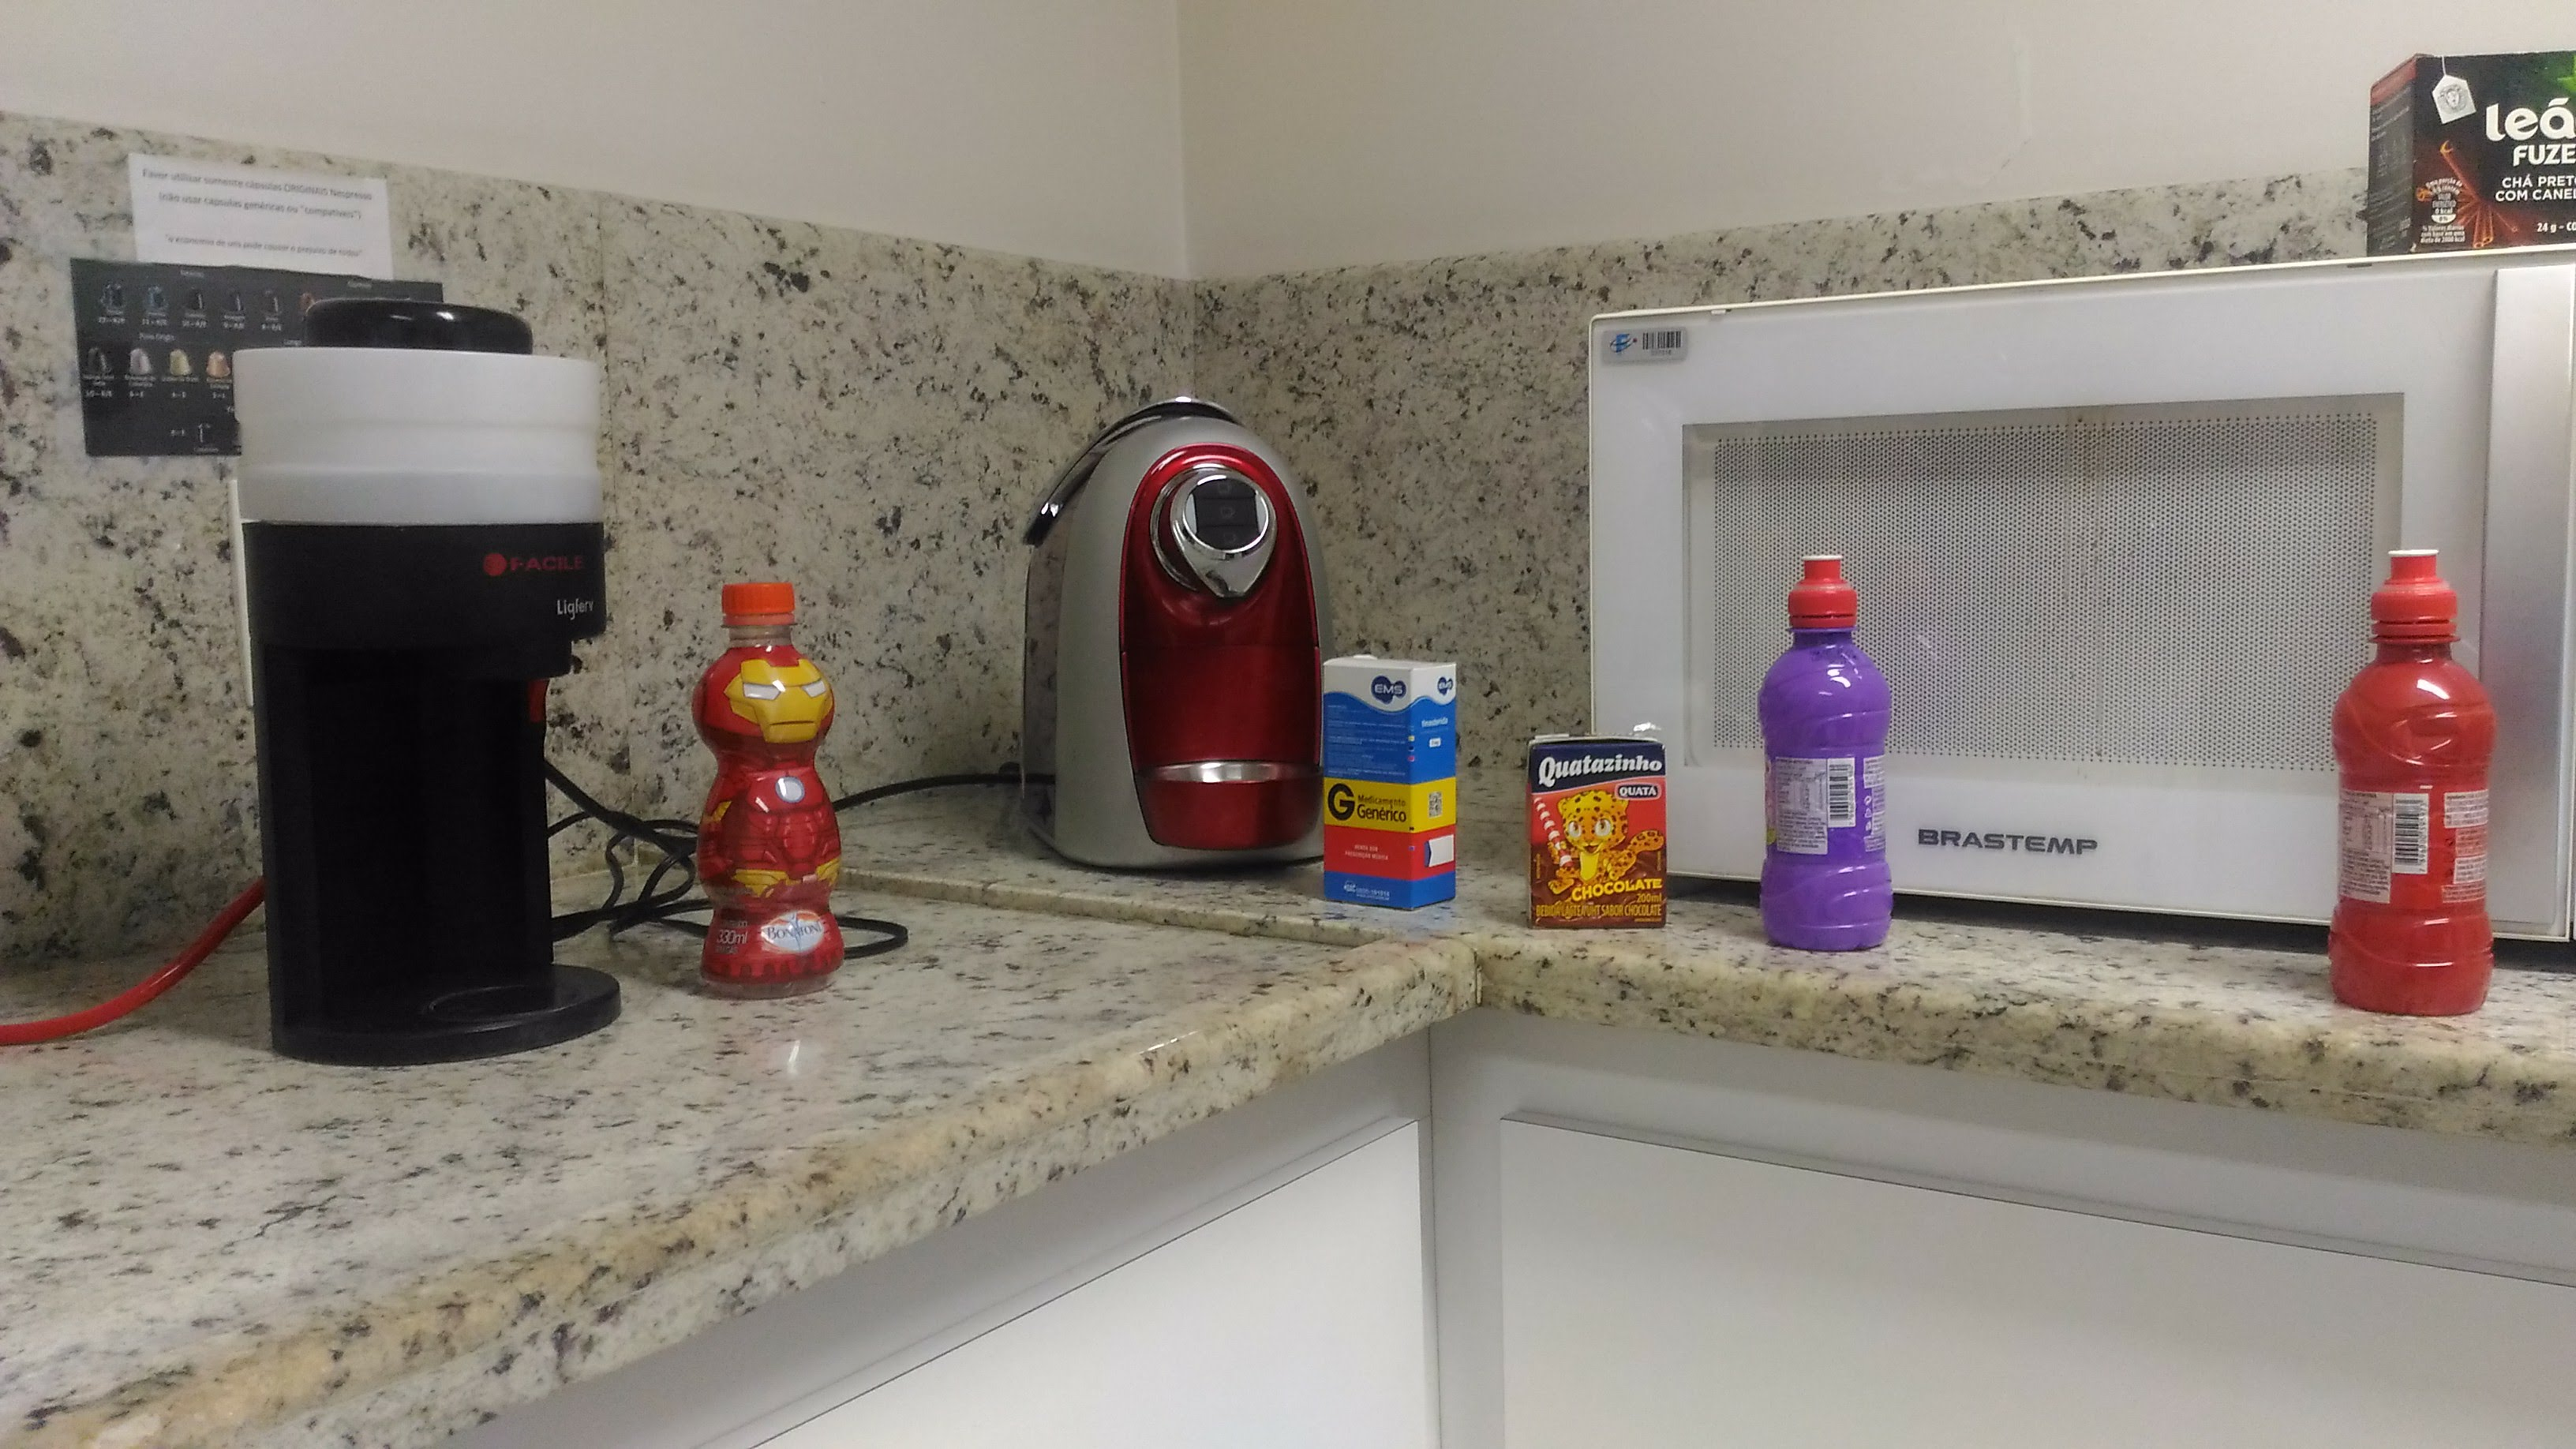chocolate_milk: (1520, 724, 1682, 961)
iron_man: (677, 575, 880, 990)
medicine: (1309, 646, 1466, 923)
purple_juice: (1757, 554, 1906, 974)
red_juice: (2330, 545, 2504, 1024)
tea_box: (2359, 43, 2576, 248)
